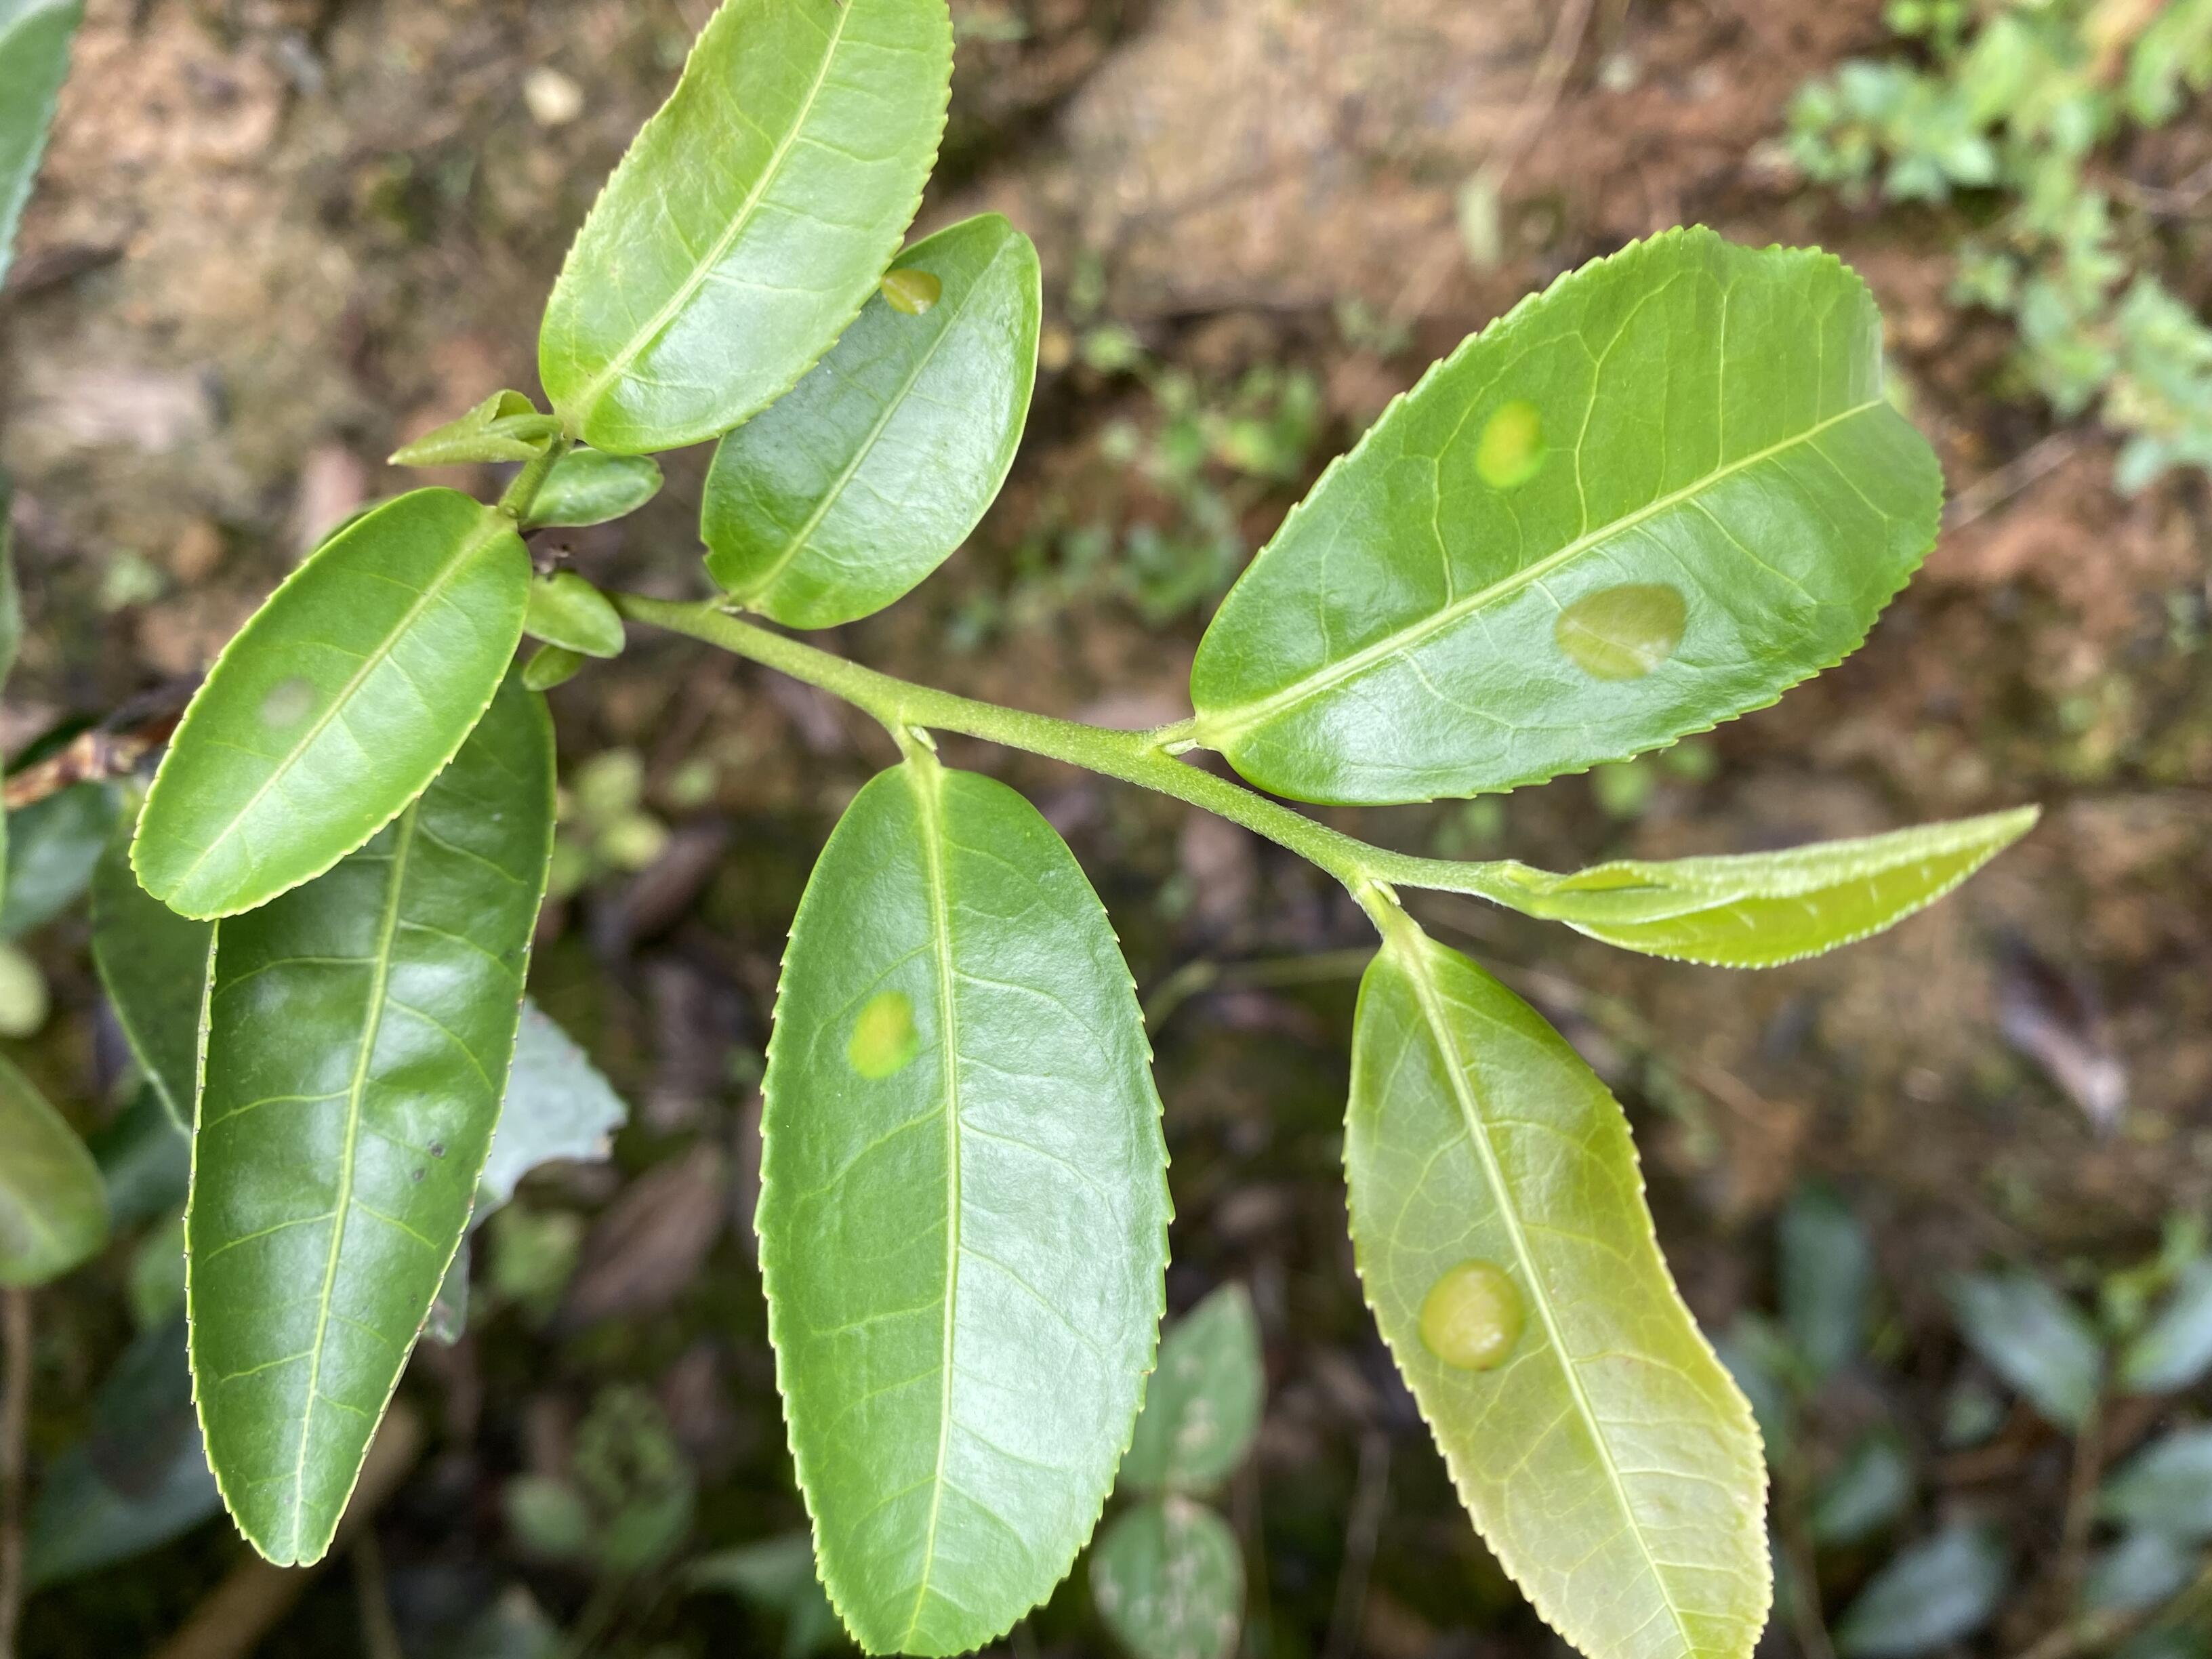chabing_high: (1188, 223, 1946, 812)
chabing_low: (754, 762, 1179, 1659), (1339, 938, 1778, 1652), (124, 484, 535, 924), (700, 211, 1045, 633)
healthy: (538, 2, 956, 446)
